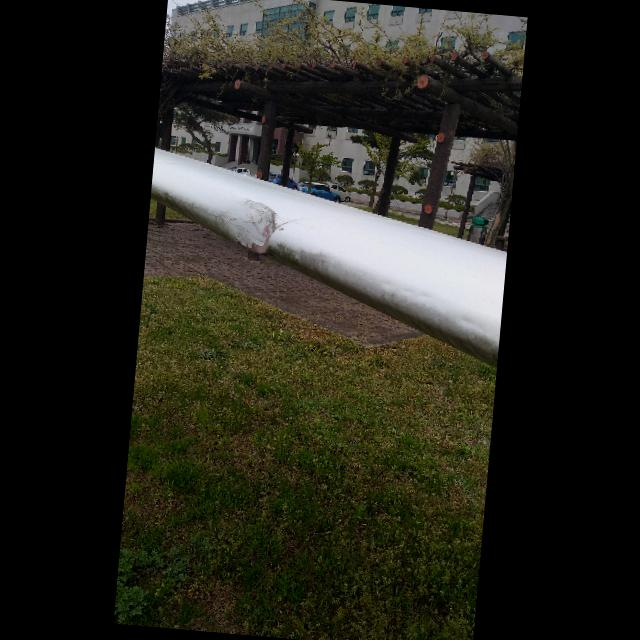dent: (220, 196, 282, 256)
